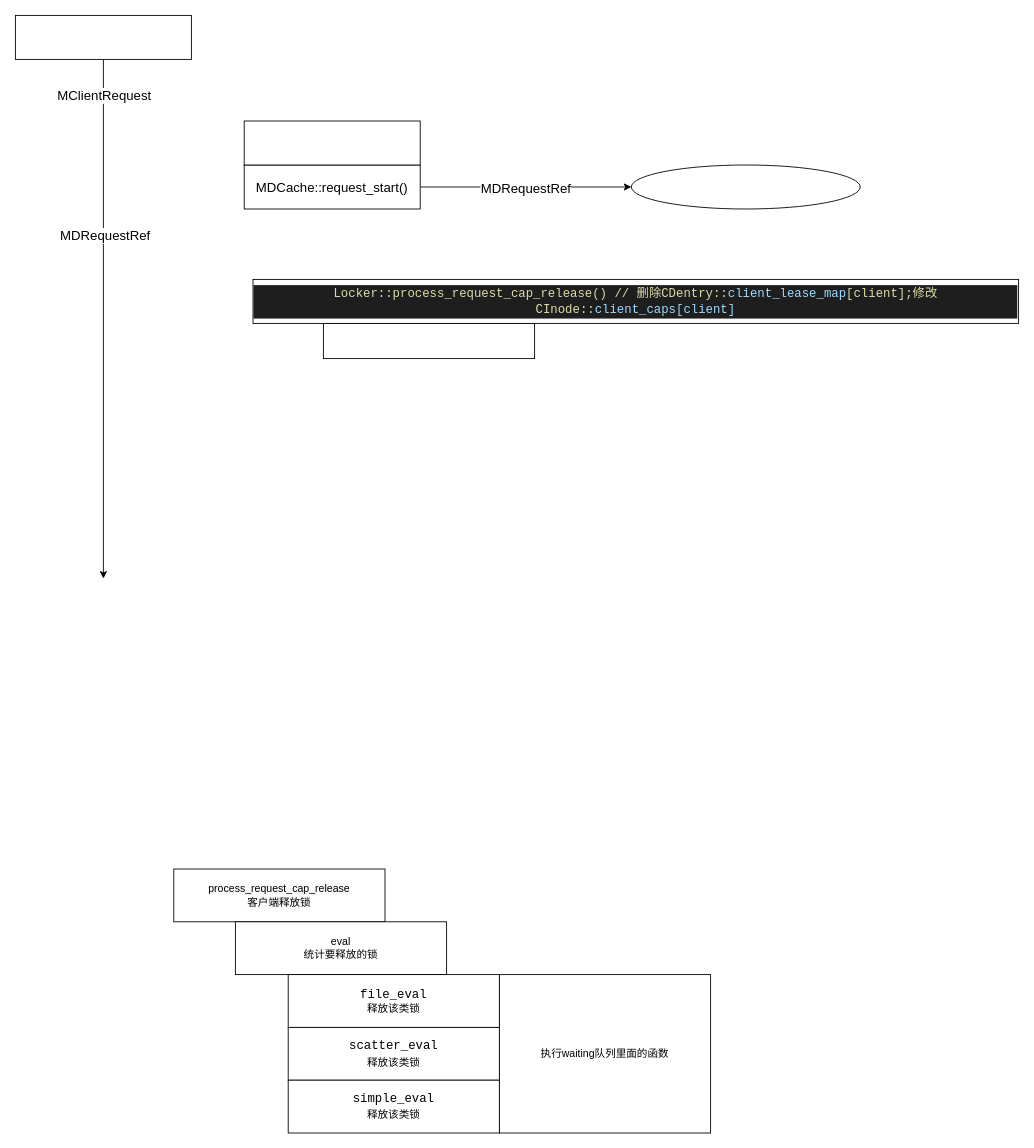
Some shapes in this 1034 by 1148 pixel diagram are drawn without their labels. The shapes that lost their labels are listed below. From the top down, each one's box as (x1, y1, x2, y2) in pixels, then its label:
(15, 15, 191, 59): Server::handle_client_request
(243, 120, 420, 165): MDSRank::get_session()
(631, 164, 860, 209): MDCache::active_request[reqid]
(323, 323, 535, 359): mdcache -> get_inode ( ino )
